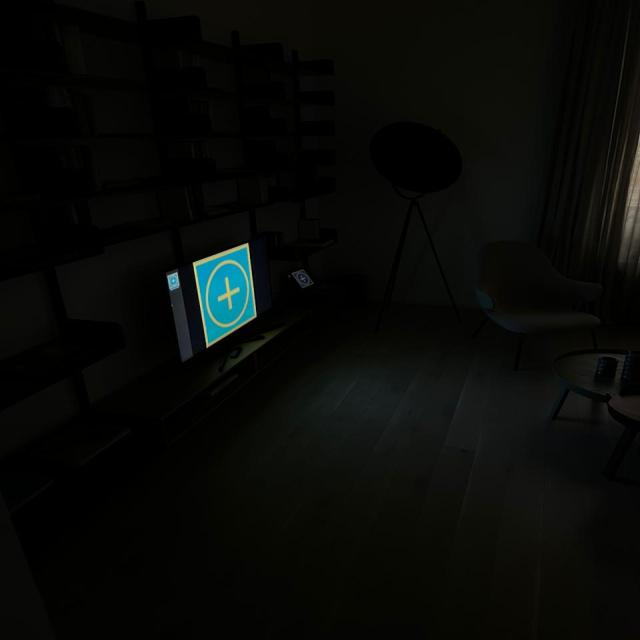Marker: (194, 243, 258, 348), (292, 269, 314, 288), (167, 272, 180, 288)
